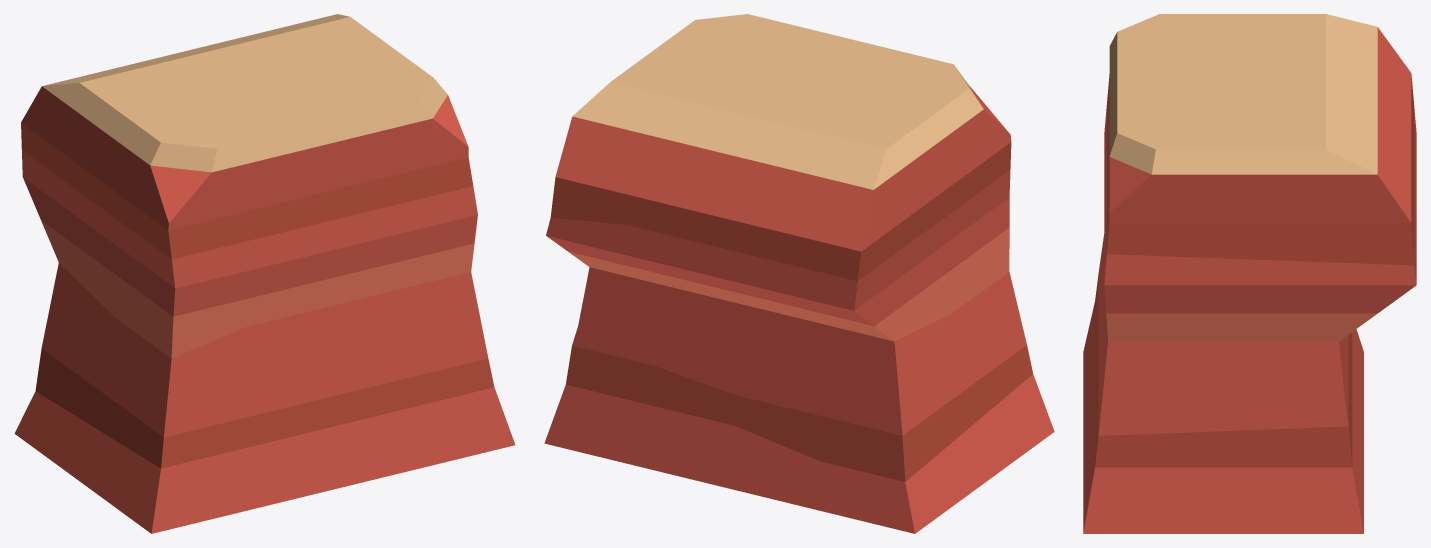
Rendered from StoneWall007.fbx.
3 renders of one model, left to right at view 1: azimuth 30°, elevation 25°; view 2: azimuth 150°, elevation 25°; view 3: azimuth 270°, elevation 25°, orthographic. The views are drawn at different scales.
Parts seen in each view (by area): view 1: StoneWall007; view 2: StoneWall007; view 3: StoneWall007.
Part boxes in pixels (left/top/right/bottom): StoneWall007: left=14, top=14, right=515, bottom=533; StoneWall007: left=544, top=14, right=1054, bottom=533; StoneWall007: left=1083, top=14, right=1416, bottom=533.
Size of the model in its own units: 482 by 446 by 373.
